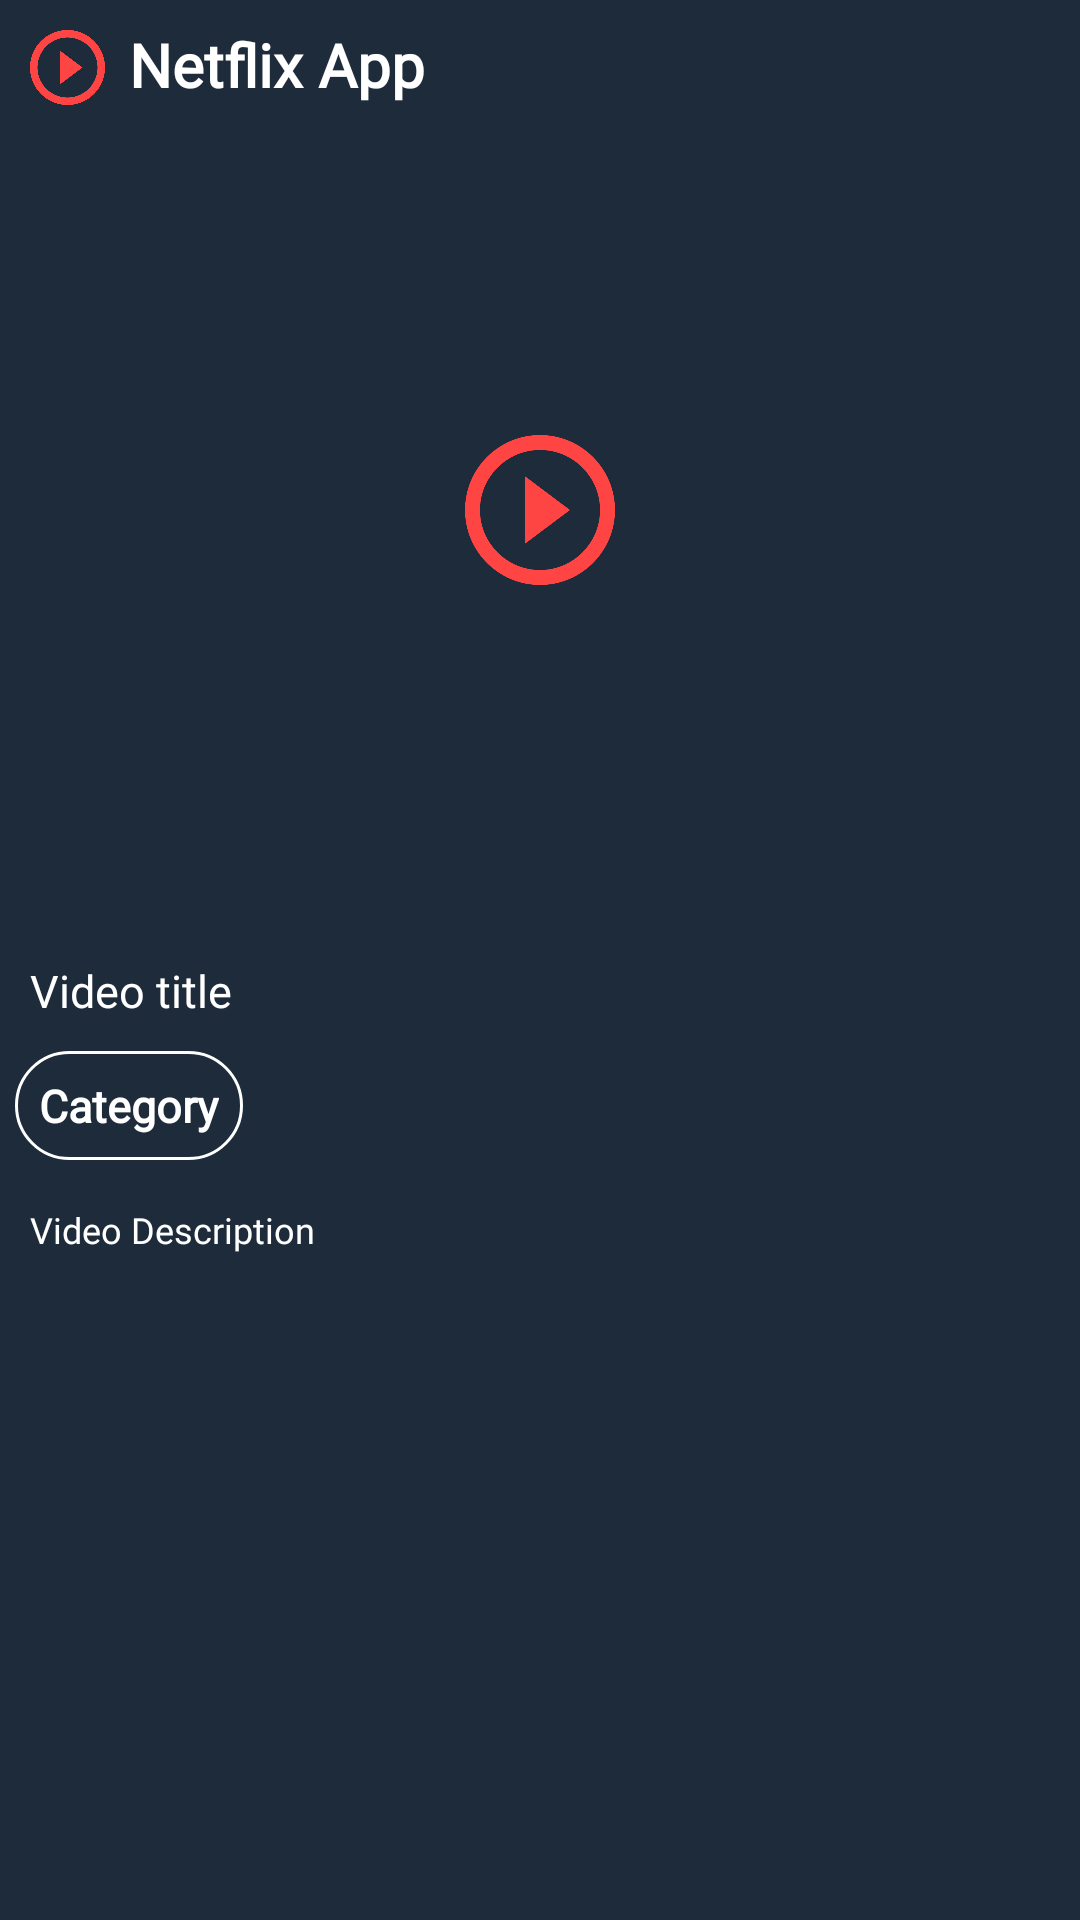

Screen size 1080x1920. Icon name, then its box in pixels as (x1, y1, x2, y2):
play arrow: (30, 30, 105, 105), (465, 435, 615, 585)
